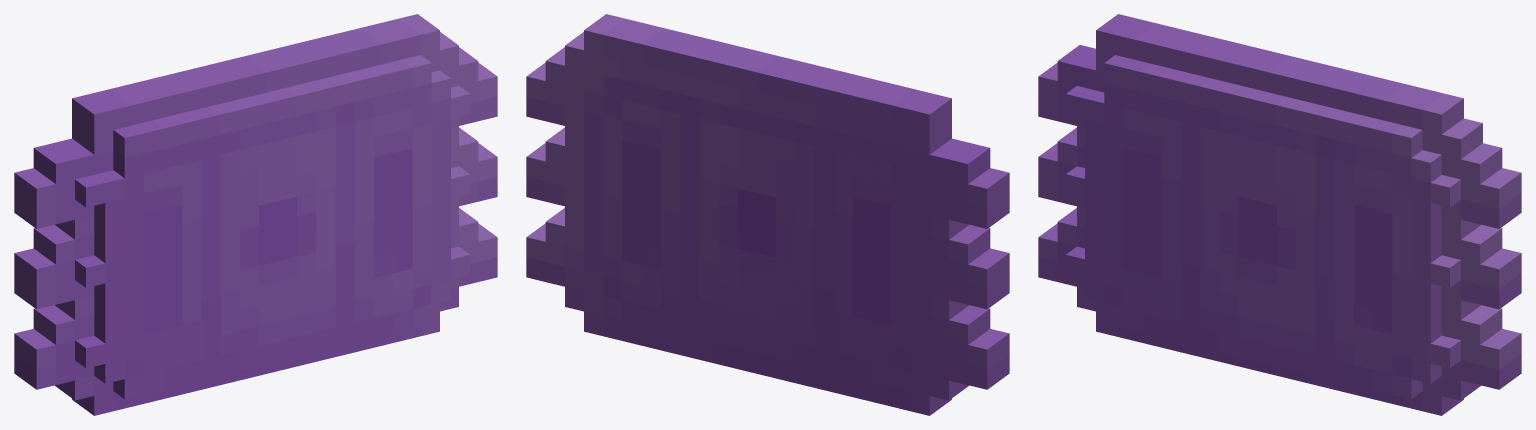
File: tickets-purple.glb
The picture shows the model from 3 angles, left to right: view 1: azimuth 30°, elevation 25°; view 2: azimuth 150°, elevation 25°; view 3: azimuth 330°, elevation 25°; orthographic projection.
Visible parts, largest first — view 1: prop; view 2: prop; view 3: prop.
Boxes of the visible parts, x1,y1,x2,y2 form: prop: (14,14,497,415); prop: (526,14,1009,415); prop: (1038,14,1521,415).
Bounding box in the file's own units: 16 × 10 × 2.
